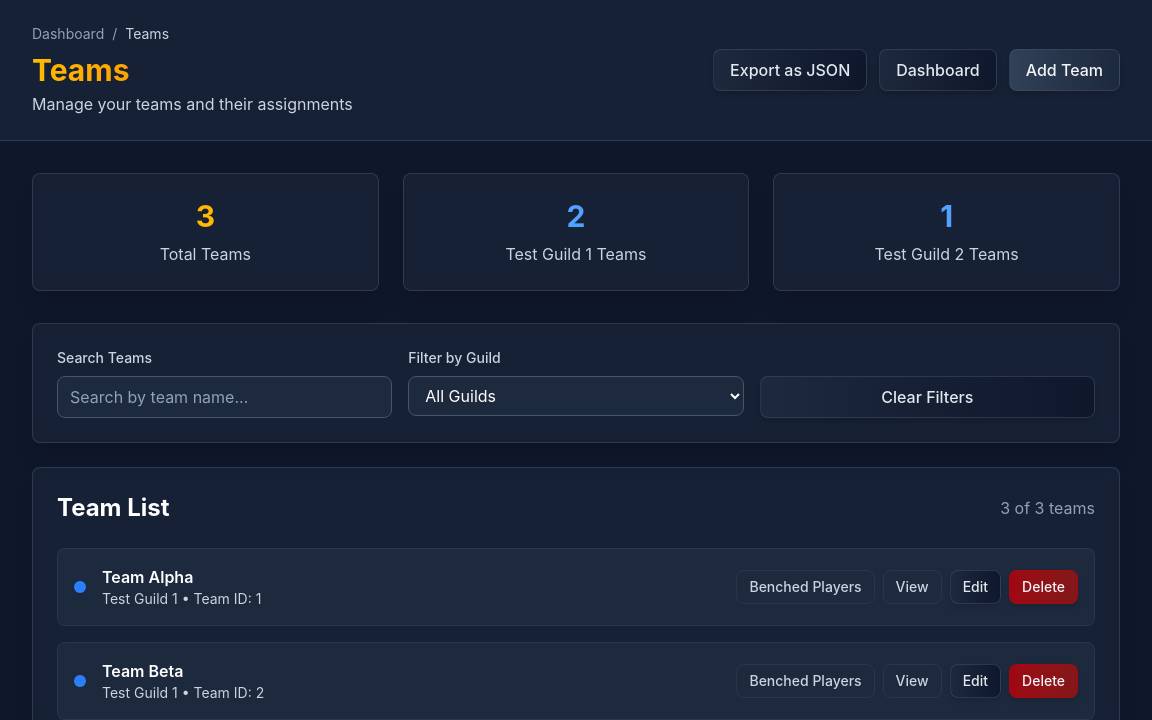
Test: Teams › Add Team › creates new team successfully
Click the button "Add Team" at (1064, 70), box [1009,49,1120,91]
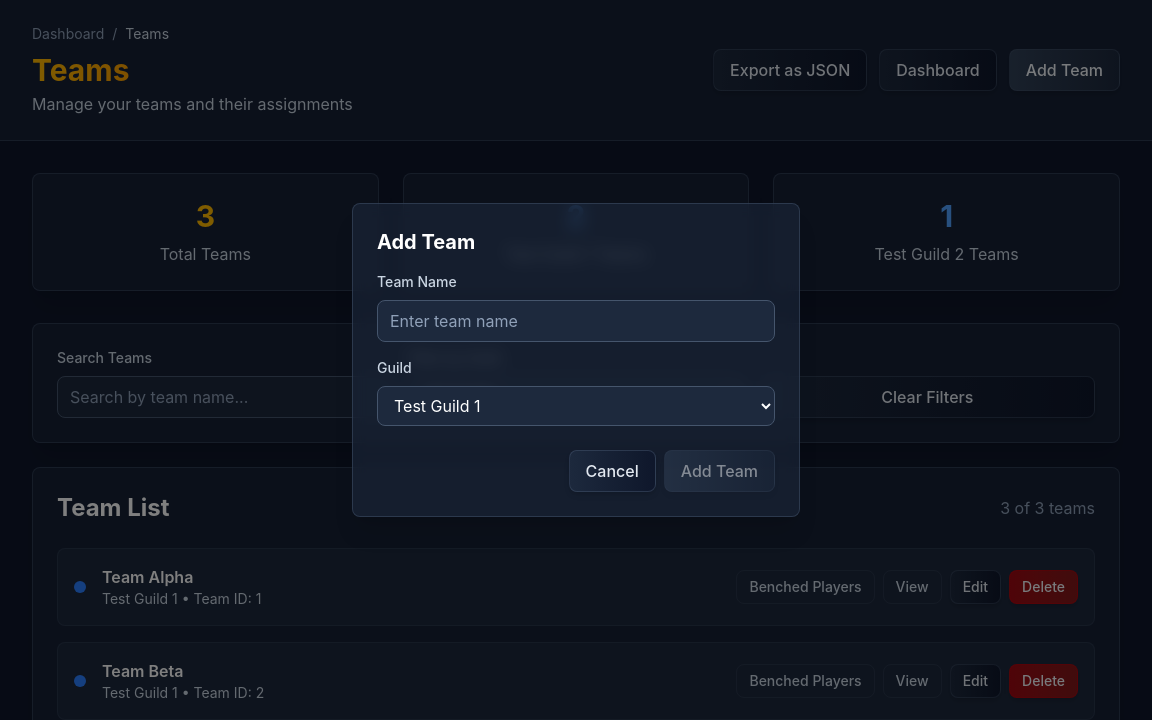
Check: the element with test id "team-form-modal" is shown
Fill form
Type "New Team" into the field labelled "Team Name" at (576, 321), box [377,300,775,342]
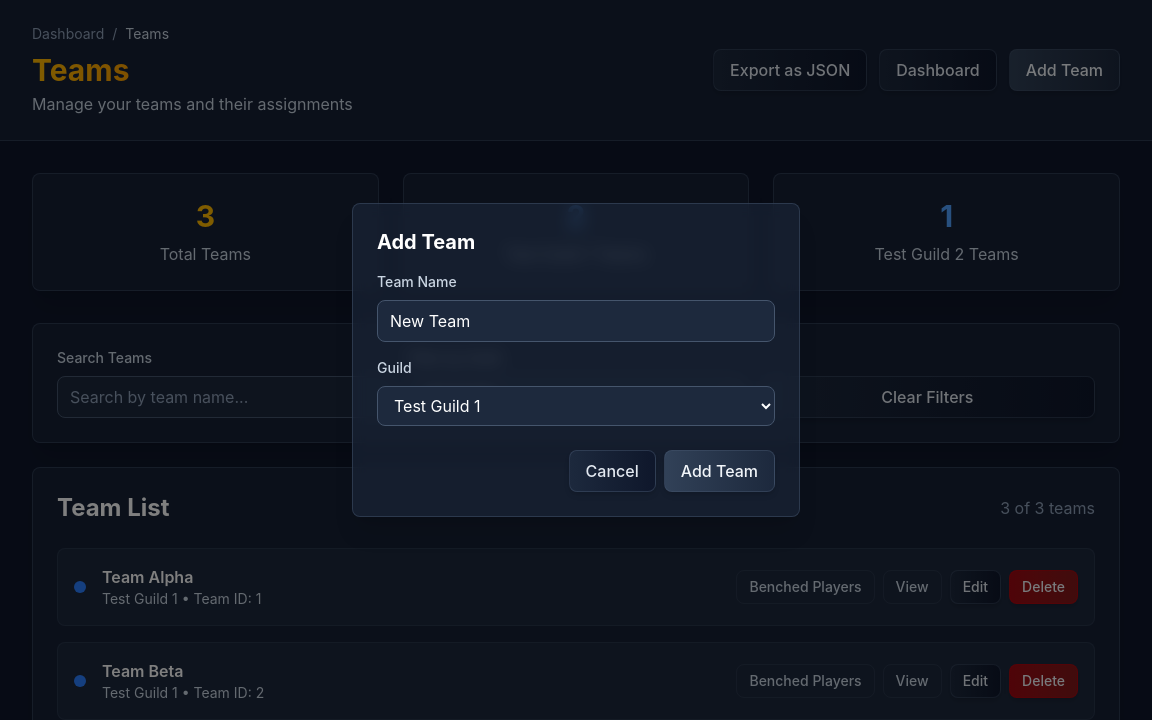
Select "Test Guild 1" in the dropdown labelled "Guild" at (576, 406), box [377,386,775,426]
Submit form
Click the button with test id "team-form-submit" at (719, 471), box [664,450,775,492]
(page scrolled)
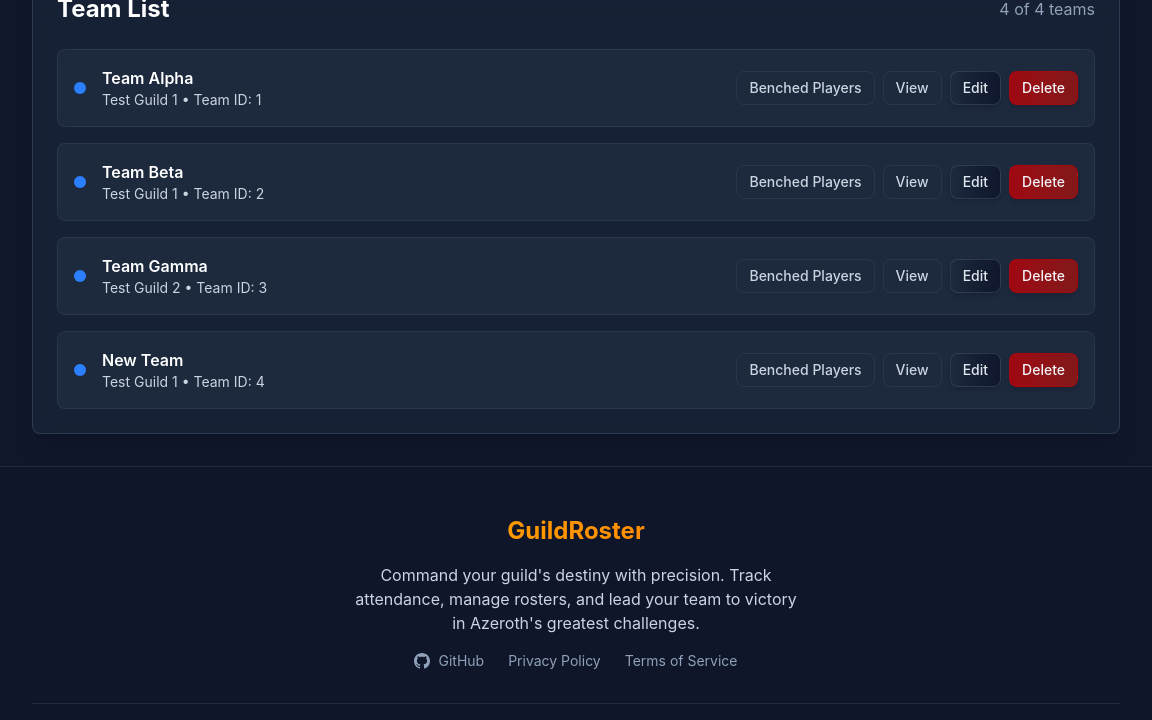
Check: the element with test id "team-form-modal" is gone
Check: the heading "New Team" is shown, box [102,350,183,370]
